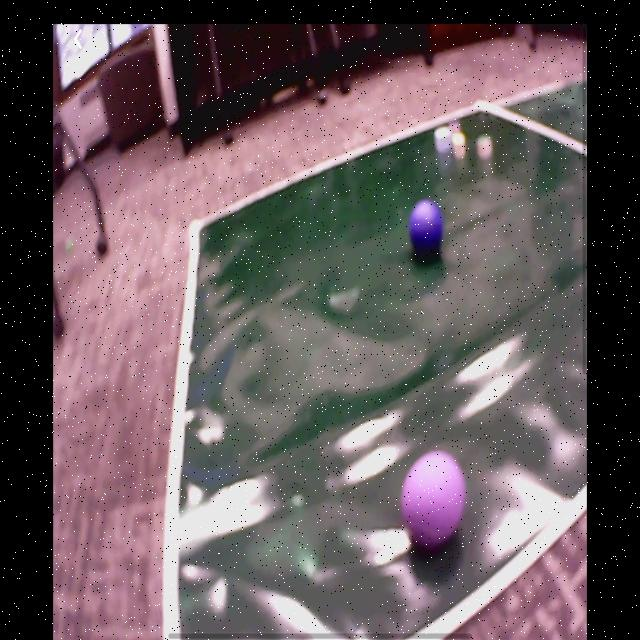ball: (400, 449, 467, 551), (410, 201, 444, 253)
